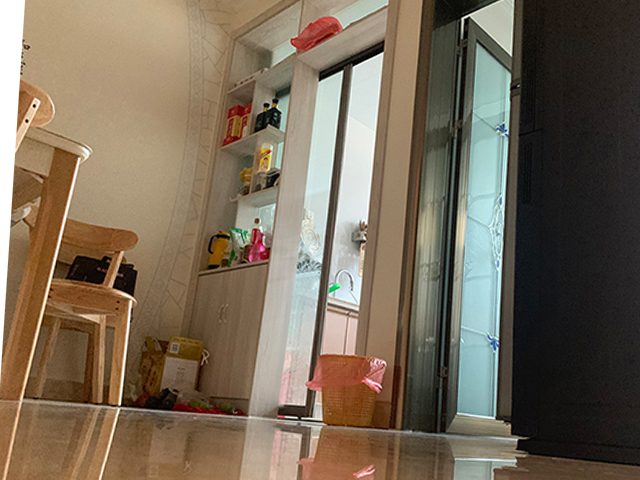cabinet: (187, 255, 291, 416)
stool: (17, 204, 139, 407)
trashcan: (320, 353, 388, 429)
